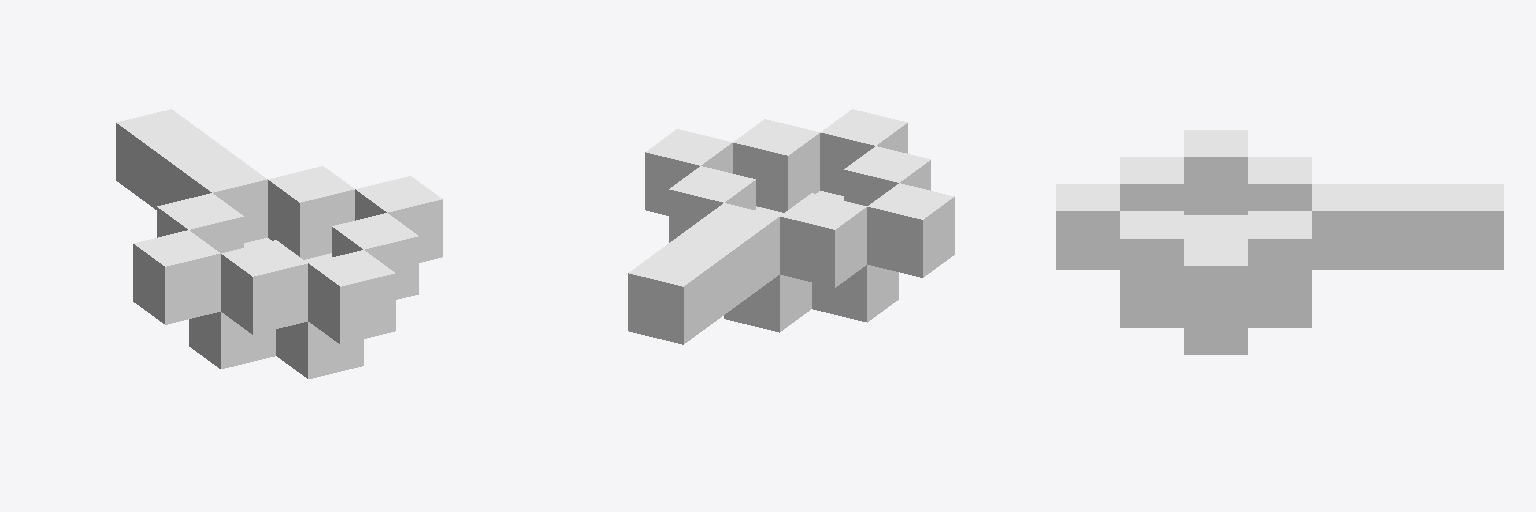
The model's file is Kitchen-22-Pan.obj.
3 views of the same model, side by side, from view 1: azimuth 30°, elevation 25°; view 2: azimuth 150°, elevation 25°; view 3: azimuth 270°, elevation 25° (orthographic).
Parts seen in each view (by area): view 1: Pan; view 2: Pan; view 3: Pan.
Part boxes in pixels (x1,y1,x2,y2): Pan: (116, 109, 442, 378); Pan: (628, 109, 954, 344); Pan: (1056, 130, 1503, 354).
Size of the model in its own units: 0.5 by 0.2 by 0.7.